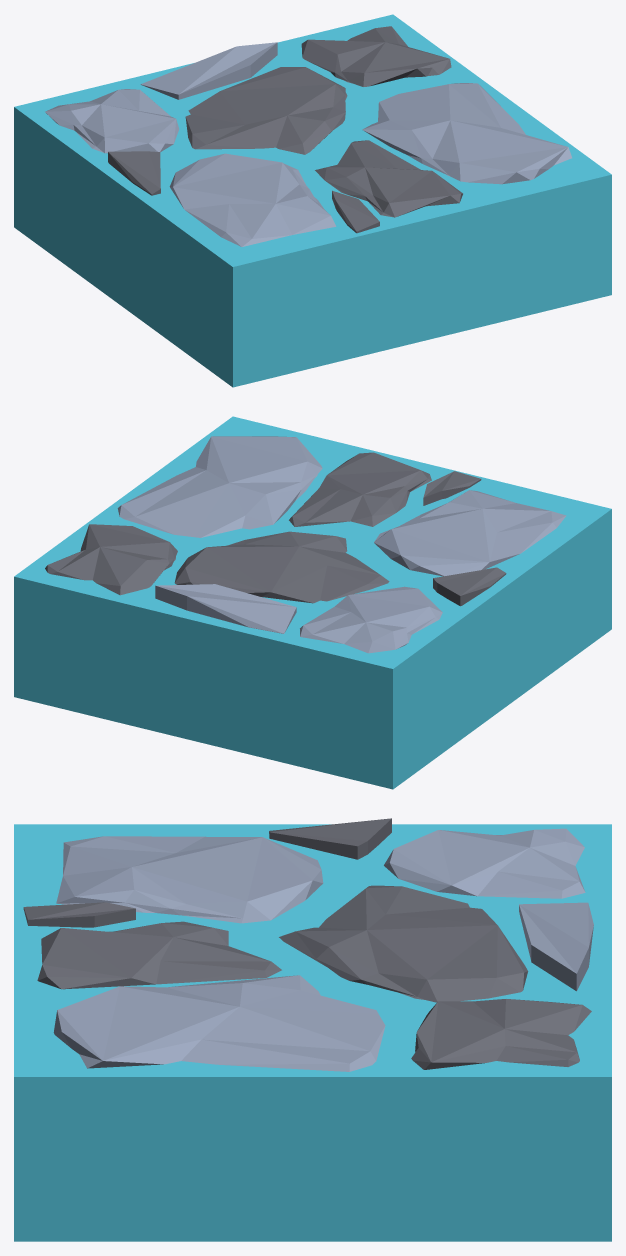
The model's file is Ground_Tiles_Large_07.FBX.
3 views of the same model, one above another, from view 1: azimuth 30°, elevation 25°; view 2: azimuth 150°, elevation 25°; view 3: azimuth 270°, elevation 25° (orthographic). The views are drawn at different scales.
Parts seen in each view (by area): view 1: Ground_Tiles_Large_07; view 2: Ground_Tiles_Large_07; view 3: Ground_Tiles_Large_07.
Boxes of the visible parts, x1=… form: Ground_Tiles_Large_07: x1=14, y1=14, x2=611, y2=387; Ground_Tiles_Large_07: x1=14, y1=416, x2=611, y2=789; Ground_Tiles_Large_07: x1=14, y1=818, x2=611, y2=1241.
Size of the model in its own units: 100 by 34 by 100.
